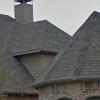Chimney: (8, 1, 37, 22)
